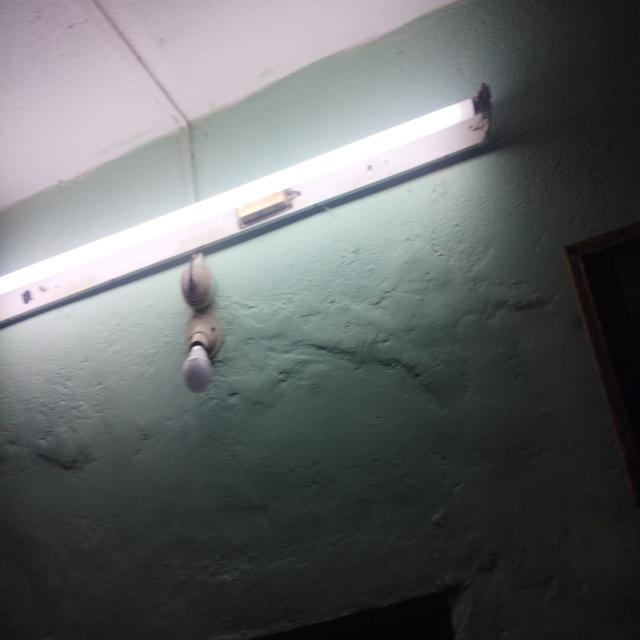tubelight_on: (0, 85, 494, 323)
